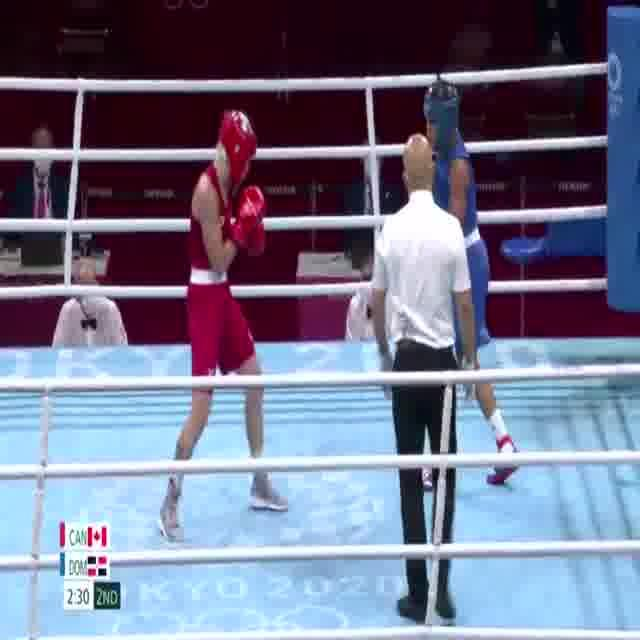blue-player: (398, 76, 521, 489)
red-player: (154, 108, 291, 545)
referee: (364, 128, 476, 625)
